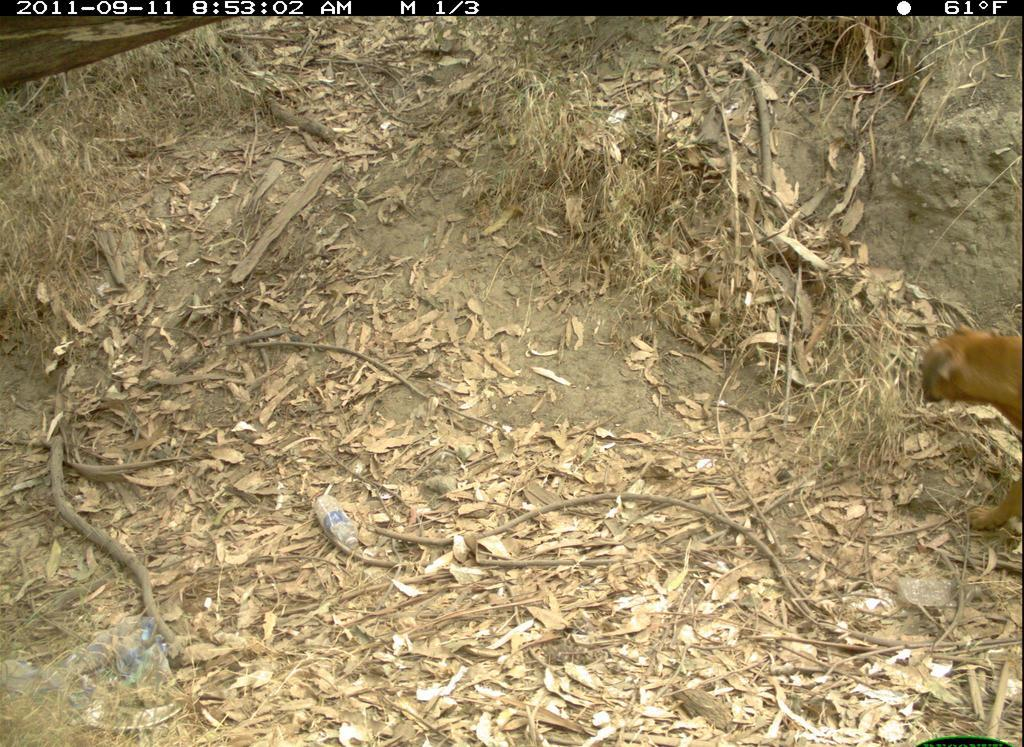dog: (914, 312, 1021, 547)
